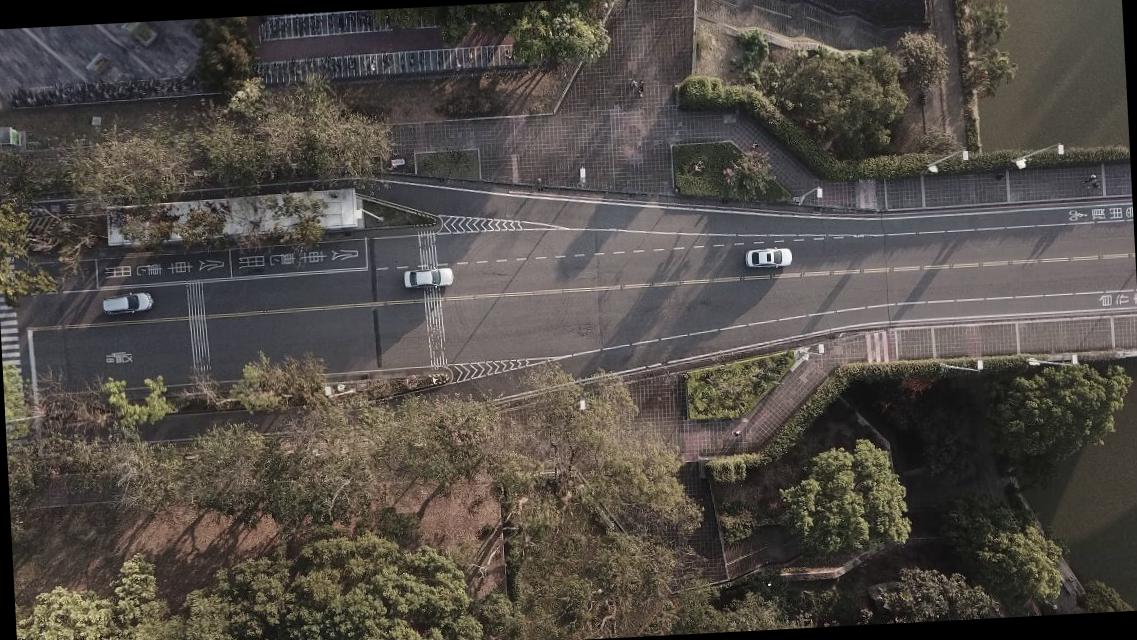vehicle: (101, 290, 153, 316), (402, 266, 453, 291), (742, 247, 792, 270)
